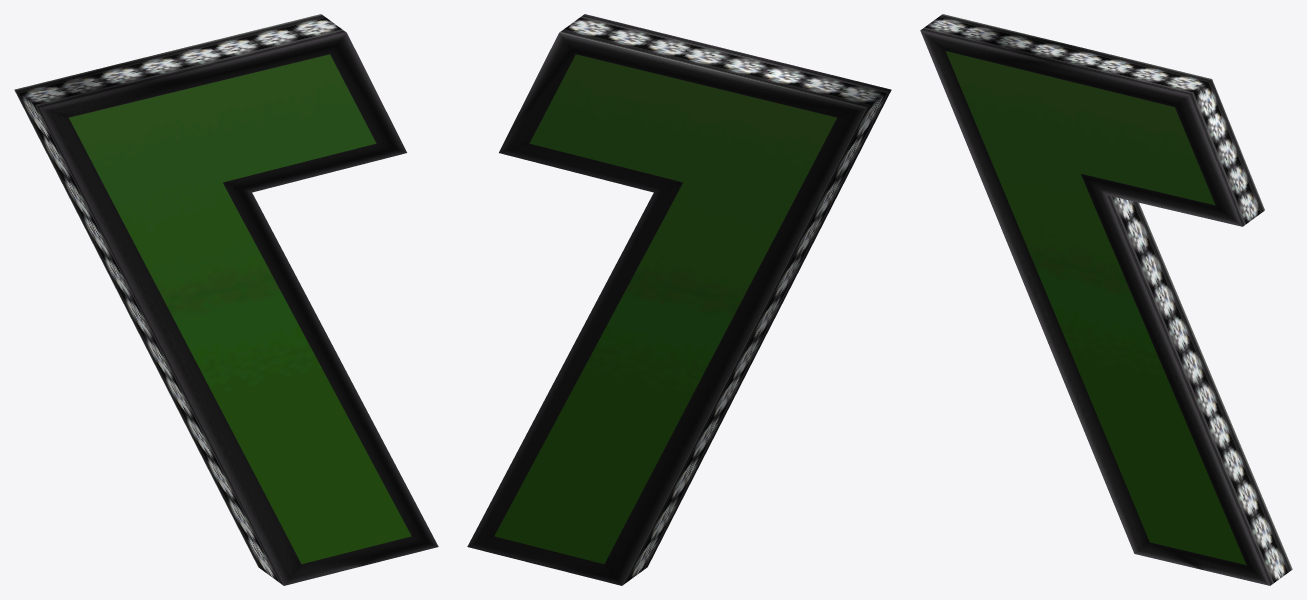
The model's file is ghmicon.ico.obj.
3 renders of one model, left to right at view 1: azimuth 30°, elevation 25°; view 2: azimuth 150°, elevation 25°; view 3: azimuth 330°, elevation 25°, orthographic. The views are drawn at different scales.
Bounding box in the file's own units: 2.88 × 3.71 × 0.3213.
Materials: 1 (1 with a texture image).
